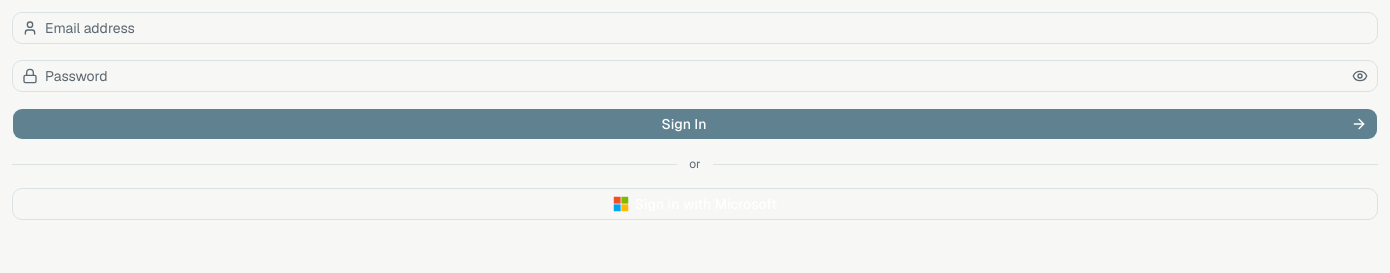
Test: LoginForm › shows the server error message when loginAction returns one
The image size is (1390, 273).
Type "jane@himark.com" into the field labelled "Email address".
click(695, 28); type("jane@himark.com")  # box [12,12,1378,44]
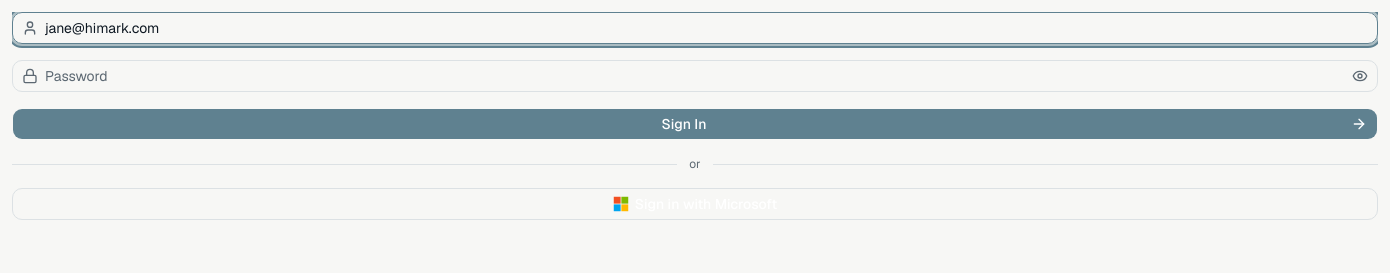
Type "wrong-password" into the password field labelled "Password".
click(695, 76); type("wrong-password")  # box [12,60,1378,92]
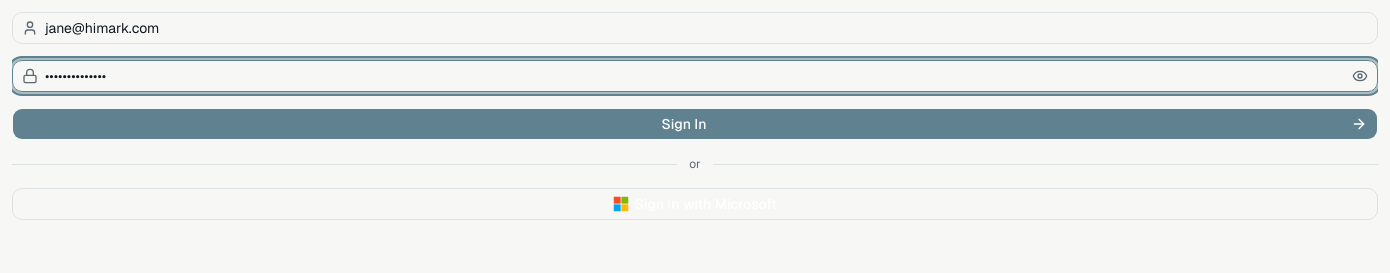
Click the button "Sign In".
click(695, 124)  # box [12,108,1378,140]
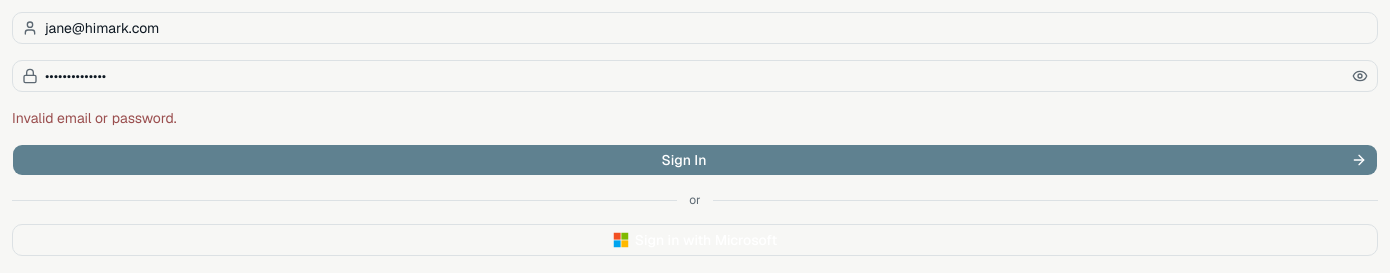
expect the text "Invalid email or password." is shown: met, box [12,109,177,127]
